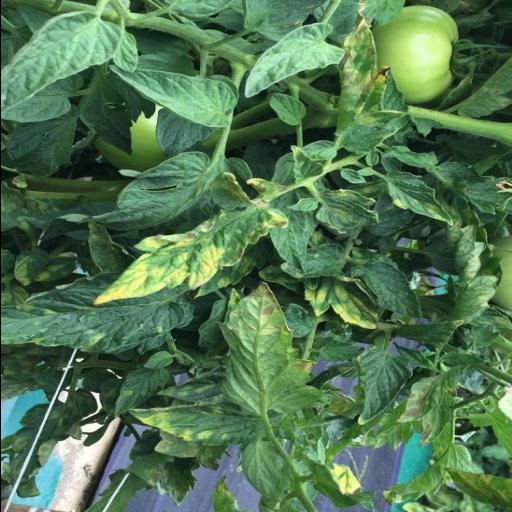Healthy: (0, 8, 122, 122), (106, 67, 242, 132), (236, 22, 341, 98)
Leaf Mold: (93, 173, 287, 307), (212, 288, 330, 430), (334, 22, 402, 148), (130, 398, 268, 438), (302, 278, 380, 330), (384, 170, 454, 226), (314, 187, 378, 237)
